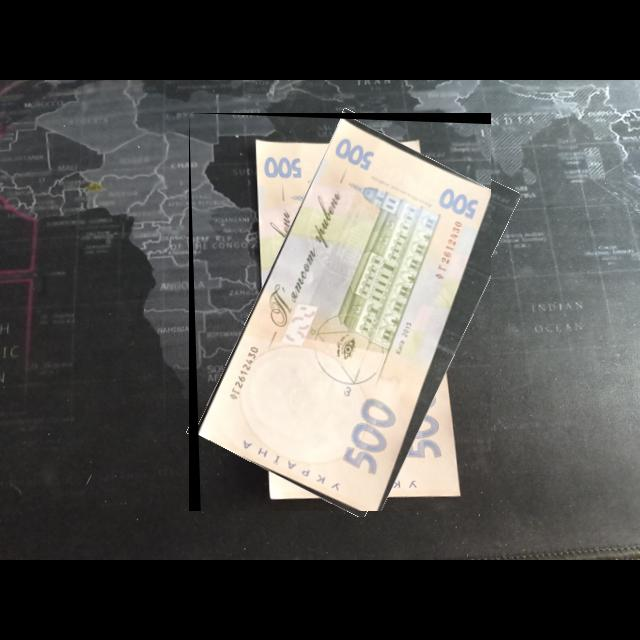500uah: (198, 118, 492, 512)
